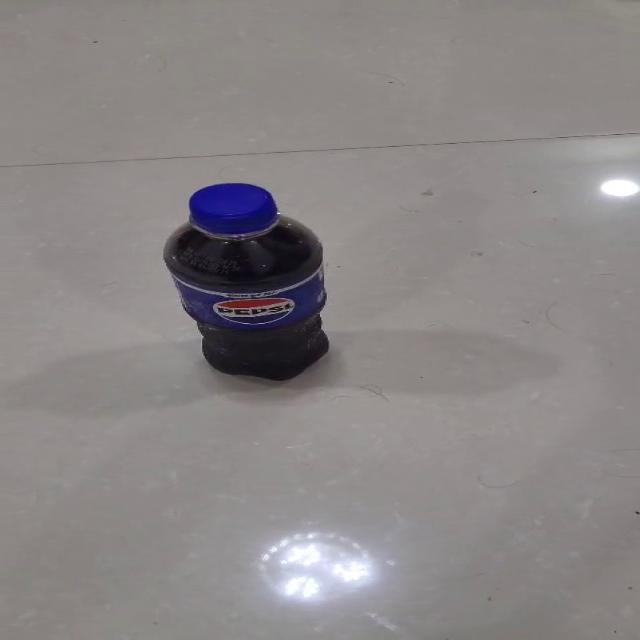plastic: (160, 181, 330, 381)
